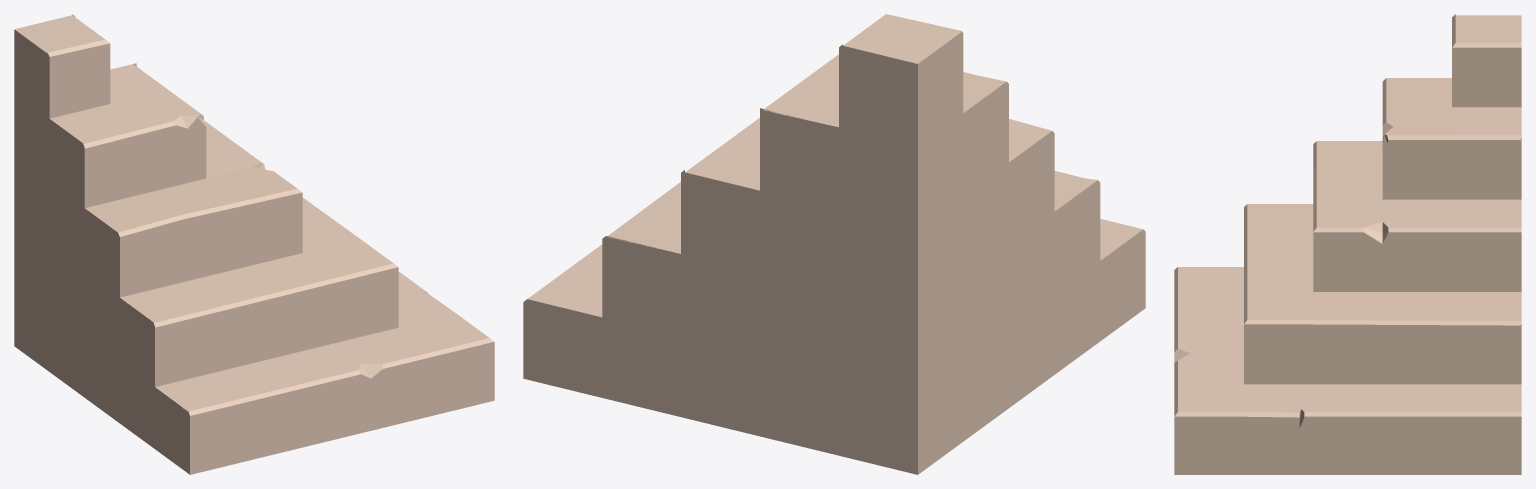
The model's file is Stair_corner_short.fbx.
3 renders of one model, left to right at view 1: azimuth 30°, elevation 25°; view 2: azimuth 150°, elevation 25°; view 3: azimuth 270°, elevation 25°, orthographic. The views are drawn at different scales.
Parts seen in each view (by area): view 1: Cube.007; view 2: Cube.007; view 3: Cube.007.
Boxes of the visible parts, x1=… form: Cube.007: x1=14, y1=14, x2=494, y2=474; Cube.007: x1=523, y1=14, x2=1145, y2=474; Cube.007: x1=1174, y1=14, x2=1521, y2=474.
Bounding box in the file's own units: 100 × 99.87 × 100.
